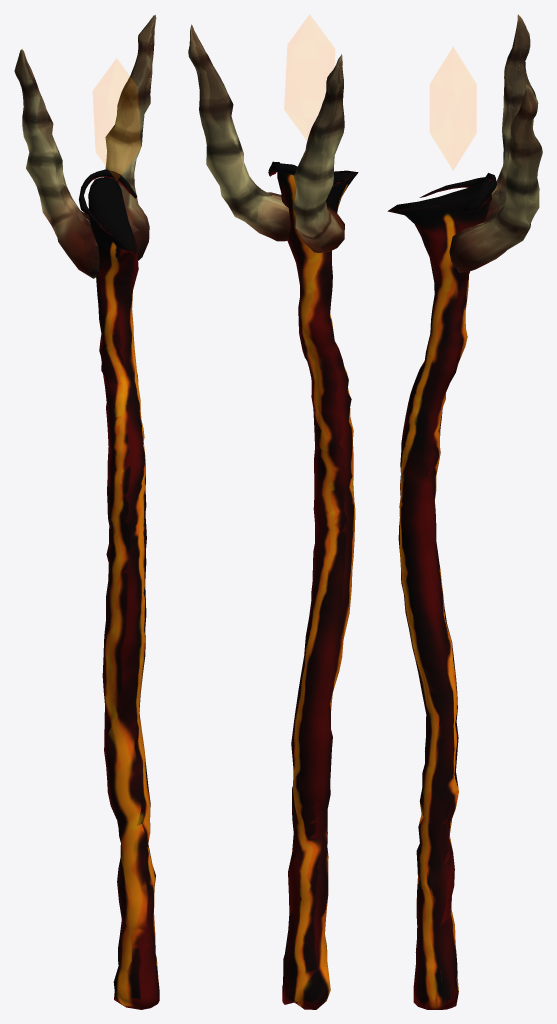
The model's file is hellstaff.fbx.
3 renders of one model, left to right at view 1: azimuth 30°, elevation 25°; view 2: azimuth 150°, elevation 25°; view 3: azimuth 270°, elevation 25°, orthographic. The views are drawn at different scales.
Visible parts, largest first — view 1: Icosphere; view 2: Icosphere; view 3: Icosphere.
Part boxes in pixels (x1,y1,x2,y2): Icosphere: [14, 14, 159, 1009]; Icosphere: [188, 15, 358, 1009]; Icosphere: [387, 14, 542, 1009].
Size of the model in its own units: 84.44 by 535 by 79.41.
